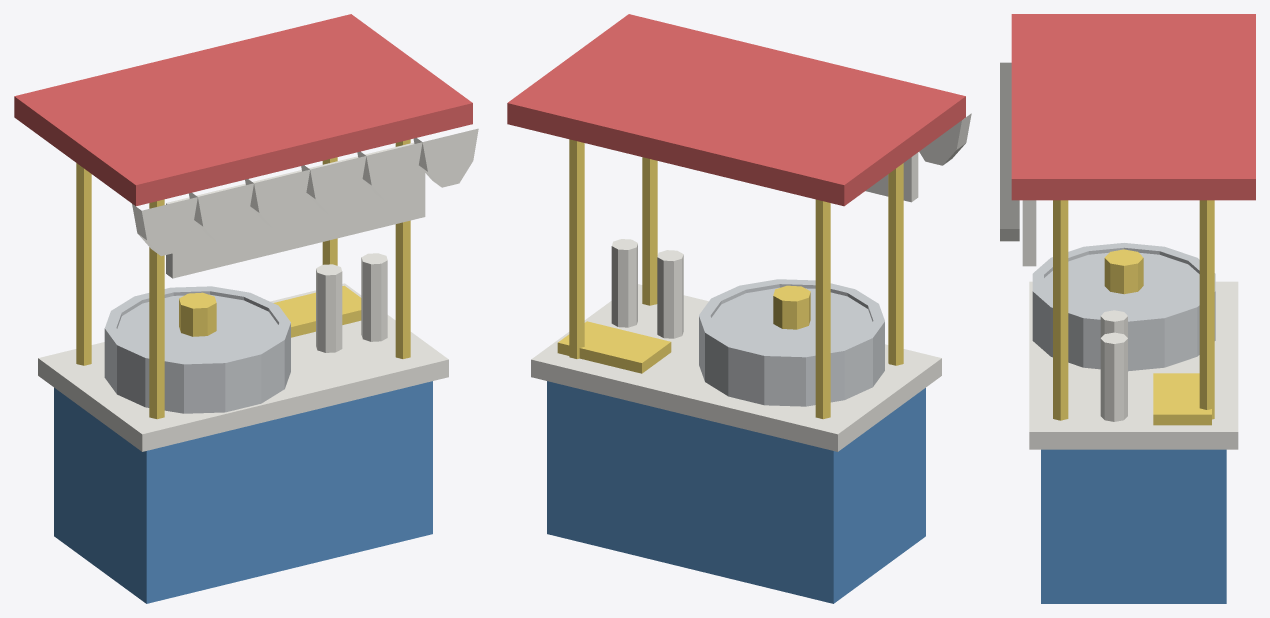
Rendered from travelling-circus-and-big-top-candyfloss-stand-95222341__36276.glb.
3 views of the same model, side by side, from view 1: azimuth 30°, elevation 25°; view 2: azimuth 150°, elevation 25°; view 3: azimuth 270°, elevation 25° (orthographic).
Parts seen in each view (by area): view 1: candyfloss-stand-azure, candyfloss-stand-stripe, candyfloss-stand-canvas, candyfloss-stand-steel, candyfloss-stand-gold, bowl/steel, bowl/gold; view 2: candyfloss-stand-azure, candyfloss-stand-stripe, candyfloss-stand-canvas, candyfloss-stand-gold, candyfloss-stand-steel, bowl/steel, bowl/gold; view 3: candyfloss-stand-stripe, candyfloss-stand-azure, candyfloss-stand-canvas, candyfloss-stand-gold, candyfloss-stand-steel, bowl/steel, bowl/gold.
Boxes of the visible parts, <box> form: candyfloss-stand-azure: <box>54,381,432,603</box>; candyfloss-stand-stripe: <box>14,14,472,206</box>; candyfloss-stand-canvas: <box>38,128,478,451</box>; candyfloss-stand-steel: <box>104,286,290,413</box>; candyfloss-stand-gold: <box>76,139,410,419</box>; bowl/steel: <box>117,294,278,359</box>; bowl/gold: <box>179,292,216,336</box>; candyfloss-stand-azure: <box>547,381,925,603</box>; candyfloss-stand-stripe: <box>507,14,965,206</box>; candyfloss-stand-canvas: <box>531,113,971,451</box>; candyfloss-stand-gold: <box>557,139,903,419</box>; candyfloss-stand-steel: <box>699,279,884,406</box>; bowl/steel: <box>711,287,872,352</box>; bowl/gold: <box>773,285,810,329</box>; candyfloss-stand-stripe: <box>1011,14,1255,200</box>; candyfloss-stand-azure: <box>1041,449,1226,603</box>; candyfloss-stand-canvas: <box>1000,62,1238,449</box>; candyfloss-stand-gold: <box>1053,200,1214,425</box>; candyfloss-stand-steel: <box>1032,243,1215,371</box>; bowl/steel: <box>1044,252,1199,316</box>; bowl/gold: <box>1104,249,1143,294</box>.
Bounding box in the file's own units: 2 × 2.47 × 1.31.
